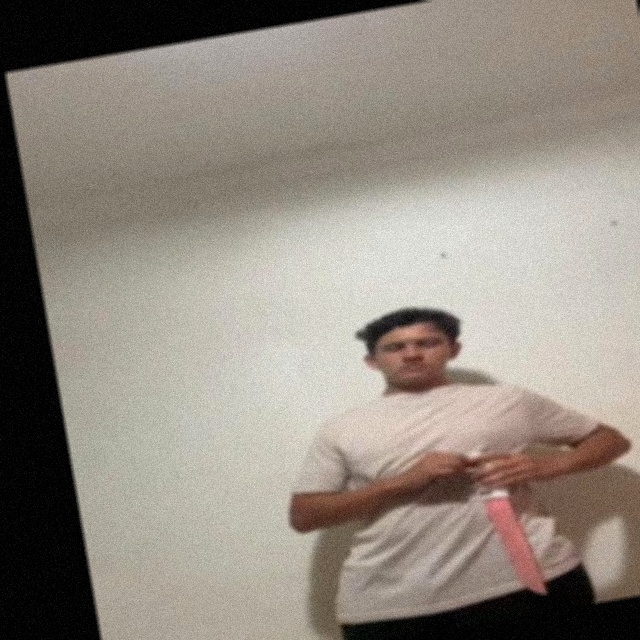Sharp-Object: (482, 488, 551, 599)
